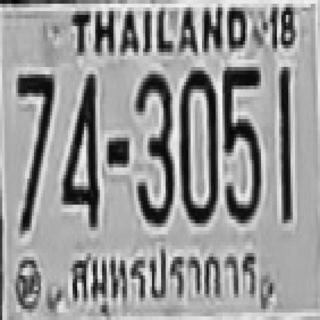N00: (179, 67, 216, 220)
N01: (278, 67, 292, 220)
N03: (134, 71, 172, 223)
N04: (61, 71, 98, 223)
N05: (221, 63, 260, 220)
N07: (16, 71, 52, 231)
P57: (68, 243, 260, 299)
